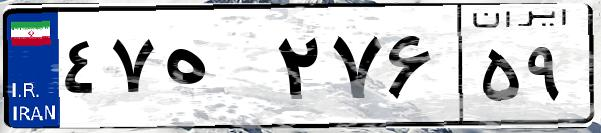2: (270, 28, 330, 110)
4: (57, 26, 110, 100)
5: (475, 38, 525, 113)
6: (385, 28, 445, 110)
7: (330, 28, 385, 110), (110, 28, 158, 98)
9: (525, 38, 570, 115)
ه: (158, 20, 270, 120)
